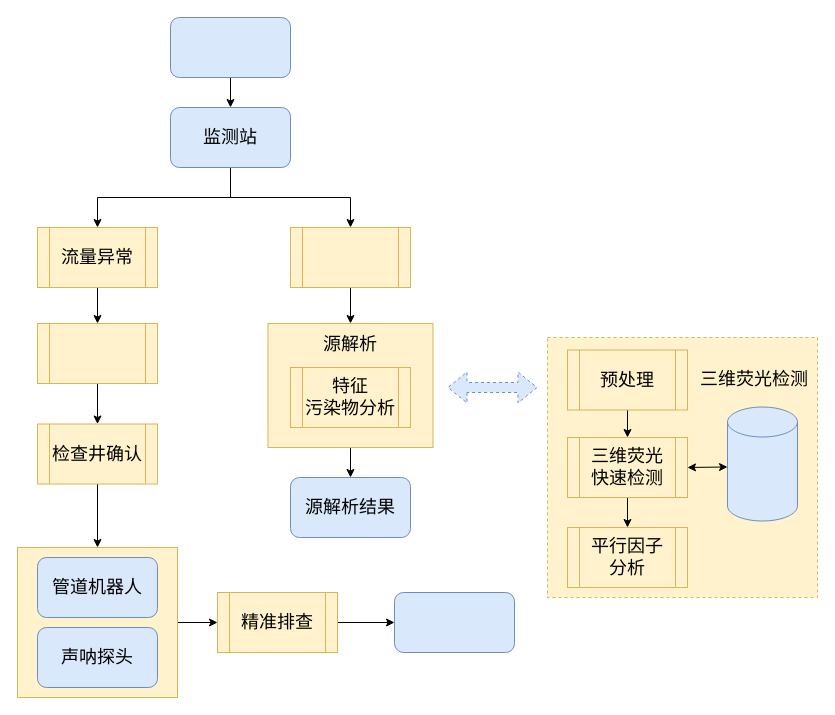
Image size: 835x715. Some labels were removed from this diagram. Each missing label, with the centre of its shape:
"水质超标" goes at (350,257).
"污染源荧光指纹数据库" goes at (762,463).
"污水水样" goes at (230,47).
"流量平衡 分析" goes at (97,353).
"溯源结果" goes at (454,622).
